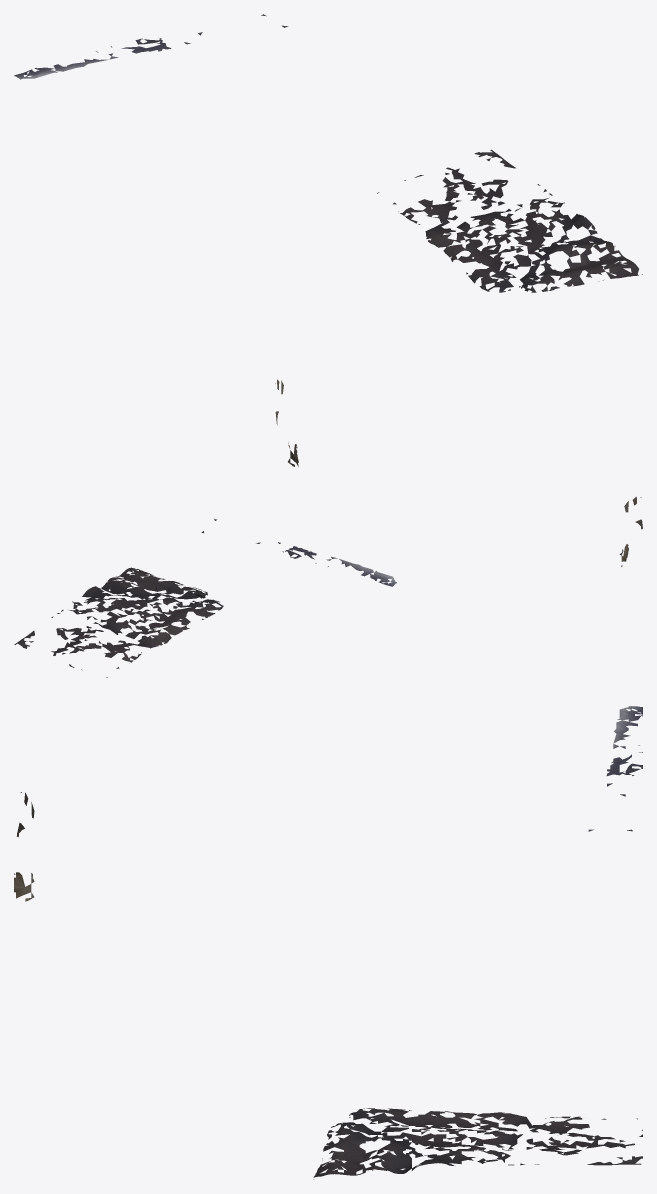
File: coarse.glb
3 views of the same model, one above another, from view 1: azimuth 30°, elevation 25°; view 2: azimuth 150°, elevation 25°; view 3: azimuth 270°, elevation 25° (orthographic). The views are drawn at different scales.
Size of the model in its own units: 3.6 by 1.44 by 3.6.
